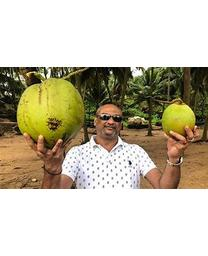coconut: (17, 77, 86, 146), (160, 98, 196, 140)
